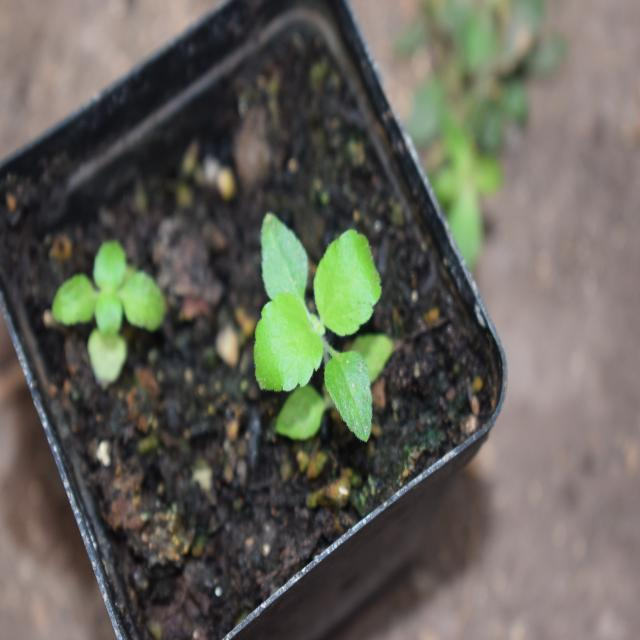billygoat_weed: (246, 192, 395, 438), (39, 233, 179, 361)
